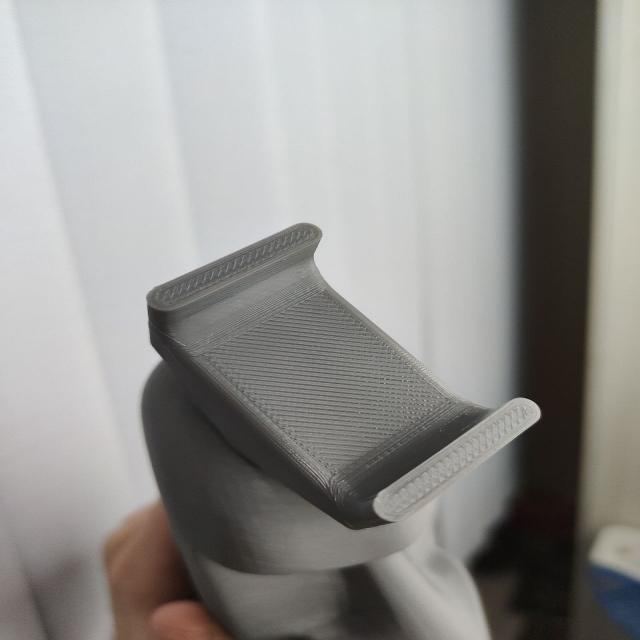Without deffect: (130, 204, 541, 640)
